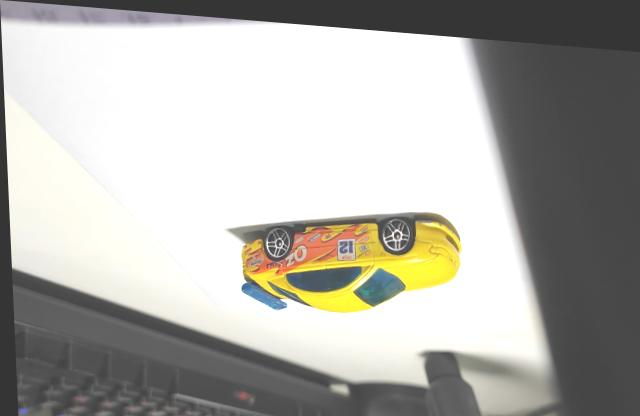02_OZSOME: (240, 204, 462, 308)
